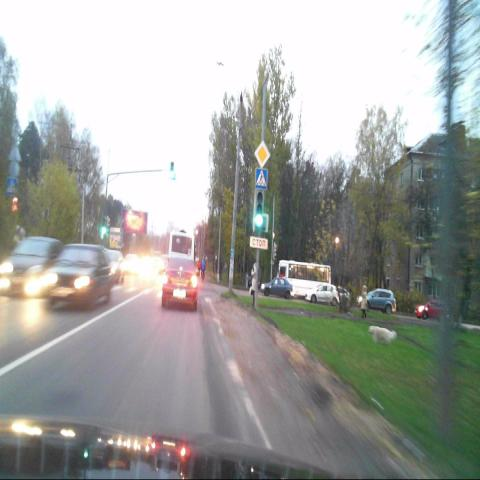2_1: (254, 139, 270, 168)
5_19_1: (254, 168, 268, 190), (6, 176, 16, 195)
6_16: (250, 236, 268, 249)
